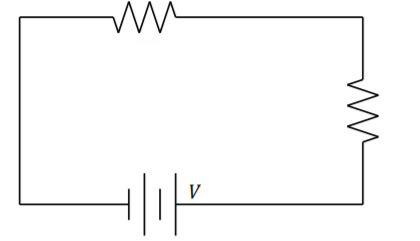resistor: (334, 62, 387, 157), (94, 0, 210, 39)
